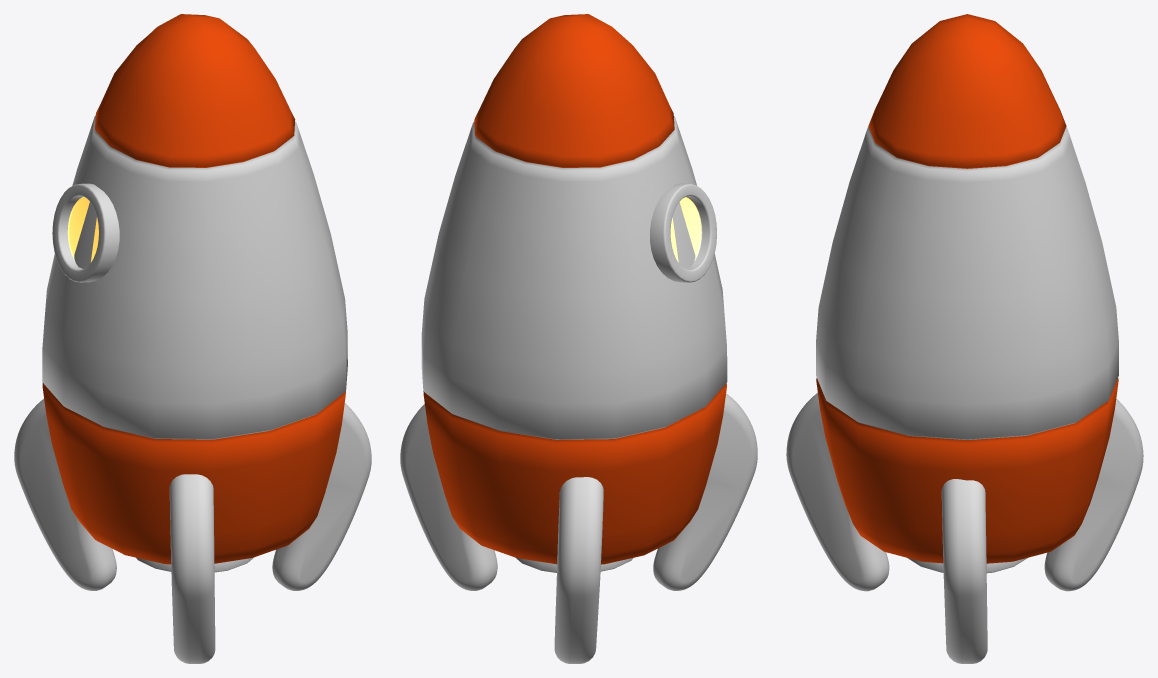
3 renders of one model, left to right at view 1: azimuth 30°, elevation 25°; view 2: azimuth 150°, elevation 25°; view 3: azimuth 270°, elevation 25°, orthographic.
Visible parts, largest first — view 1: Cube, BezierCircle, Cylinder; view 2: Cube, BezierCircle, Cylinder; view 3: Cube, BezierCircle.
Part boxes in pixels (x1,y1,x2,y2): Cube: (42,14,347,572); BezierCircle: (14,399,371,663); Cylinder: (52,183,119,282); Cube: (421,14,727,572); BezierCircle: (400,393,757,663); Cylinder: (650,183,716,282); Cube: (816,14,1118,573); BezierCircle: (786,393,1143,663).
Bounding box in the file's own units: 2.84 × 5.35 × 2.91.
